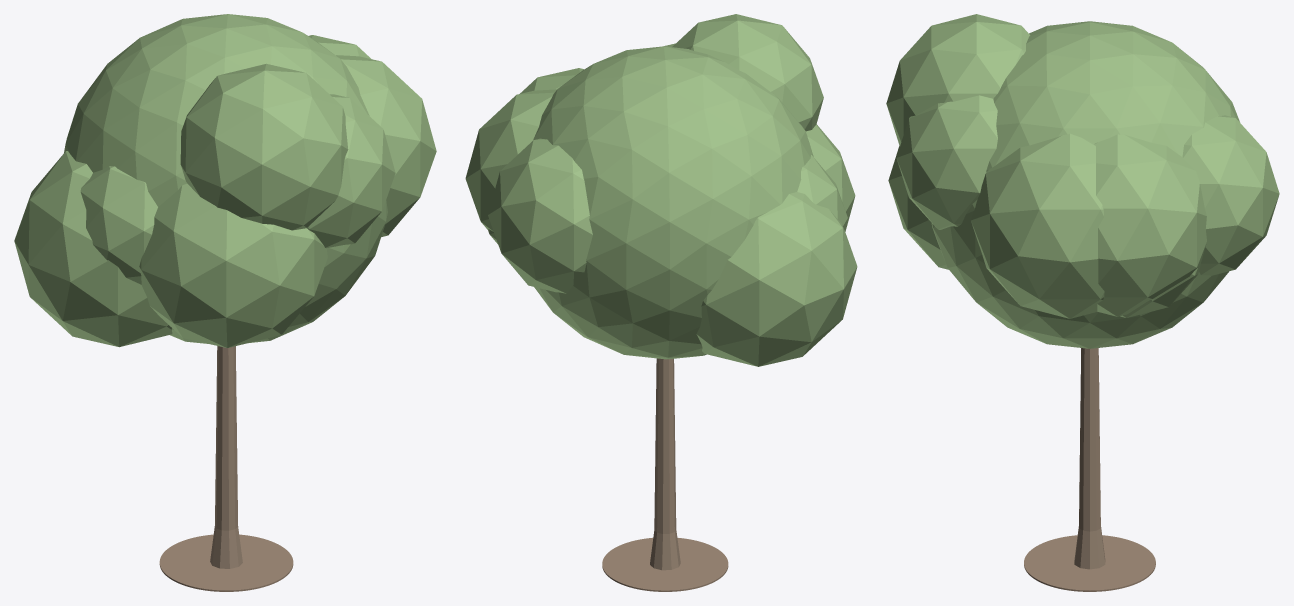
Rendered from tree.glb.
3 renders of one model, left to right at view 1: azimuth 30°, elevation 25°; view 2: azimuth 150°, elevation 25°; view 3: azimuth 270°, elevation 25°, orthographic. The views are drawn at different scales.
Parts seen in each view (by area): view 1: tree_leaf, tree_mulch, tree_bark; view 2: tree_leaf, tree_mulch, tree_bark; view 3: tree_leaf, tree_mulch, tree_bark.
Boxes of the visible parts, x1,y1,x2,y2 form: tree_leaf: (14, 14, 436, 347); tree_mulch: (159, 534, 293, 591); tree_bark: (210, 346, 242, 568); tree_leaf: (465, 14, 857, 366); tree_mulch: (602, 537, 728, 591); tree_bark: (650, 358, 680, 570); tree_leaf: (886, 14, 1279, 348); tree_mulch: (1024, 535, 1155, 591); tree_bark: (1074, 348, 1105, 569).
Bounding box in the file's own units: 5.26 × 7.13 × 4.77.
